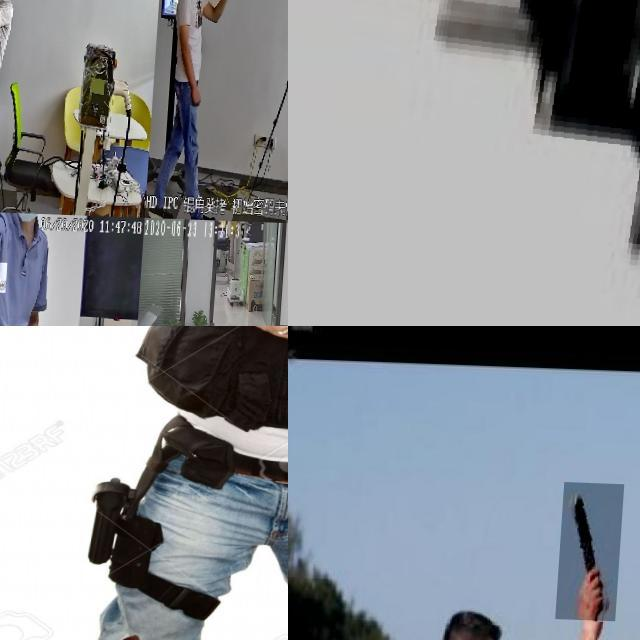-: (560, 479, 626, 618)
gun-knife-thesis - v11 Yolov5 augmented: (288, 0, 640, 326), (0, 260, 20, 291), (222, 0, 244, 20), (0, 0, 12, 18)
